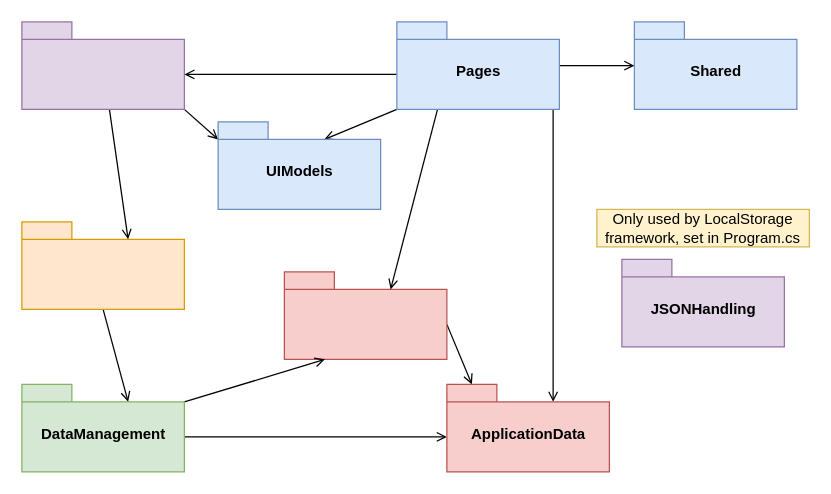
The diagram is 831 pixels wide and 494 high, and some of its shapes have lost their labels. The shapes that lost their labels are listed below. From the top down, each one's box as (x1, y1, x2, y2) in pixels, then its label:
(21, 21, 184, 109): Store
(21, 221, 184, 309): Services
(283, 271, 447, 359): DisplayData
